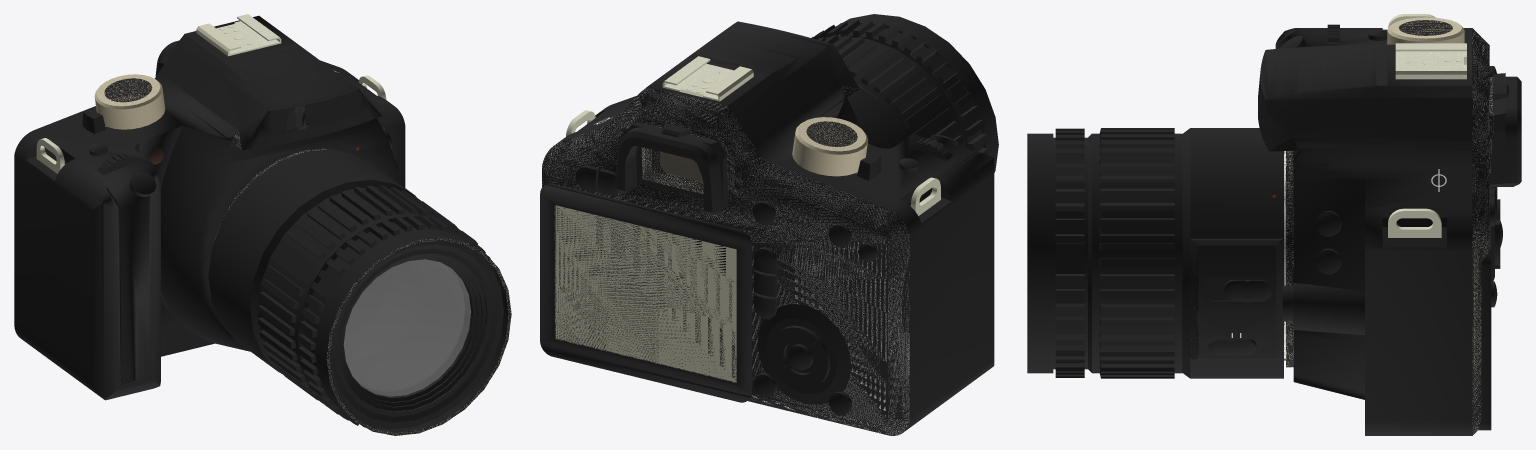
The model's file is model_align.obj.
3 views of the same model, side by side, from view 1: azimuth 30°, elevation 25°; view 2: azimuth 150°, elevation 25°; view 3: azimuth 270°, elevation 25° (orthographic). The views are drawn at different scales.
Visible parts, largest first — view 1: mesh97_mesh97-geometry, mesh165_mesh165-geometry, mesh166_mesh166-geometry, mesh152_mesh152-geometry, mesh159_mesh159-geometry, mesh148_mesh148-geometry, mesh144_mesh144-geometry, mesh3_mesh3-geometry, mesh81_mesh81-geometry, mesh13_mesh13-geometry, mesh72_mesh72-geometry; view 2: mesh97_mesh97-geometry, mesh20_mesh20-geometry, mesh165_mesh165-geometry, mesh30_mesh30-geometry, mesh144_mesh144-geometry, mesh148_mesh148-geometry, mesh3_mesh3-geometry, mesh81_mesh81-geometry, mesh166_mesh166-geometry, mesh100_mesh100-geometry, mesh13_mesh13-geometry, mesh47_mesh47-geometry (+11 smaller); view 3: mesh97_mesh97-geometry, mesh166_mesh166-geometry, mesh165_mesh165-geometry, mesh148_mesh148-geometry, mesh144_mesh144-geometry, mesh5_mesh5-geometry, mesh30_mesh30-geometry, mesh81_mesh81-geometry, mesh3_mesh3-geometry, mesh9_mesh9-geometry, mesh155_mesh155-geometry, mesh141_mesh141-geometry (+3 smaller).
Part boxes in pixels (x1=…): mesh97_mesh97-geometry: x1=14, y1=15, x2=405, y2=400; mesh165_mesh165-geometry: x1=258, y1=187, x2=511, y2=435; mesh166_mesh166-geometry: x1=208, y1=149, x2=416, y2=373; mesh152_mesh152-geometry: x1=343, y1=259, x2=471, y2=396; mesh159_mesh159-geometry: x1=344, y1=260, x2=462, y2=389; mesh148_mesh148-geometry: x1=257, y1=185, x2=457, y2=403; mesh144_mesh144-geometry: x1=297, y1=214, x2=490, y2=427; mesh3_mesh3-geometry: x1=94, y1=74, x2=165, y2=129; mesh81_mesh81-geometry: x1=196, y1=14, x2=281, y2=56; mesh13_mesh13-geometry: x1=36, y1=138, x2=64, y2=173; mesh72_mesh72-geometry: x1=129, y1=172, x2=156, y2=196; mesh97_mesh97-geometry: x1=540, y1=21, x2=994, y2=435; mesh20_mesh20-geometry: x1=757, y1=304, x2=851, y2=404; mesh165_mesh165-geometry: x1=835, y1=14, x2=998, y2=172; mesh30_mesh30-geometry: x1=615, y1=122, x2=728, y2=215; mesh144_mesh144-geometry: x1=811, y1=19, x2=989, y2=155; mesh148_mesh148-geometry: x1=817, y1=35, x2=964, y2=146; mesh3_mesh3-geometry: x1=792, y1=117, x2=868, y2=176; mesh81_mesh81-geometry: x1=662, y1=56, x2=753, y2=101; mesh166_mesh166-geometry: x1=847, y1=85, x2=907, y2=148; mesh100_mesh100-geometry: x1=641, y1=147, x2=703, y2=193; mesh13_mesh13-geometry: x1=910, y1=177, x2=940, y2=215; mesh47_mesh47-geometry: x1=754, y1=270, x2=777, y2=296; mesh97_mesh97-geometry: x1=1258, y1=28, x2=1493, y2=435; mesh166_mesh166-geometry: x1=1182, y1=128, x2=1283, y2=378; mesh165_mesh165-geometry: x1=1027, y1=133, x2=1182, y2=373; mesh148_mesh148-geometry: x1=1099, y1=128, x2=1174, y2=378; mesh144_mesh144-geometry: x1=1055, y1=128, x2=1084, y2=377; mesh5_mesh5-geometry: x1=1282, y1=283, x2=1364, y2=334; mesh30_mesh30-geometry: x1=1489, y1=73, x2=1521, y2=186; mesh81_mesh81-geometry: x1=1395, y1=43, x2=1466, y2=79; mesh3_mesh3-geometry: x1=1387, y1=17, x2=1464, y2=44; mesh9_mesh9-geometry: x1=1388, y1=208, x2=1441, y2=237; mesh155_mesh155-geometry: x1=1223, y1=280, x2=1271, y2=302; mesh141_mesh141-geometry: x1=1208, y1=339, x2=1256, y2=357.
Size of the model in its own units: 0.181 by 0.1399 by 0.2005.
